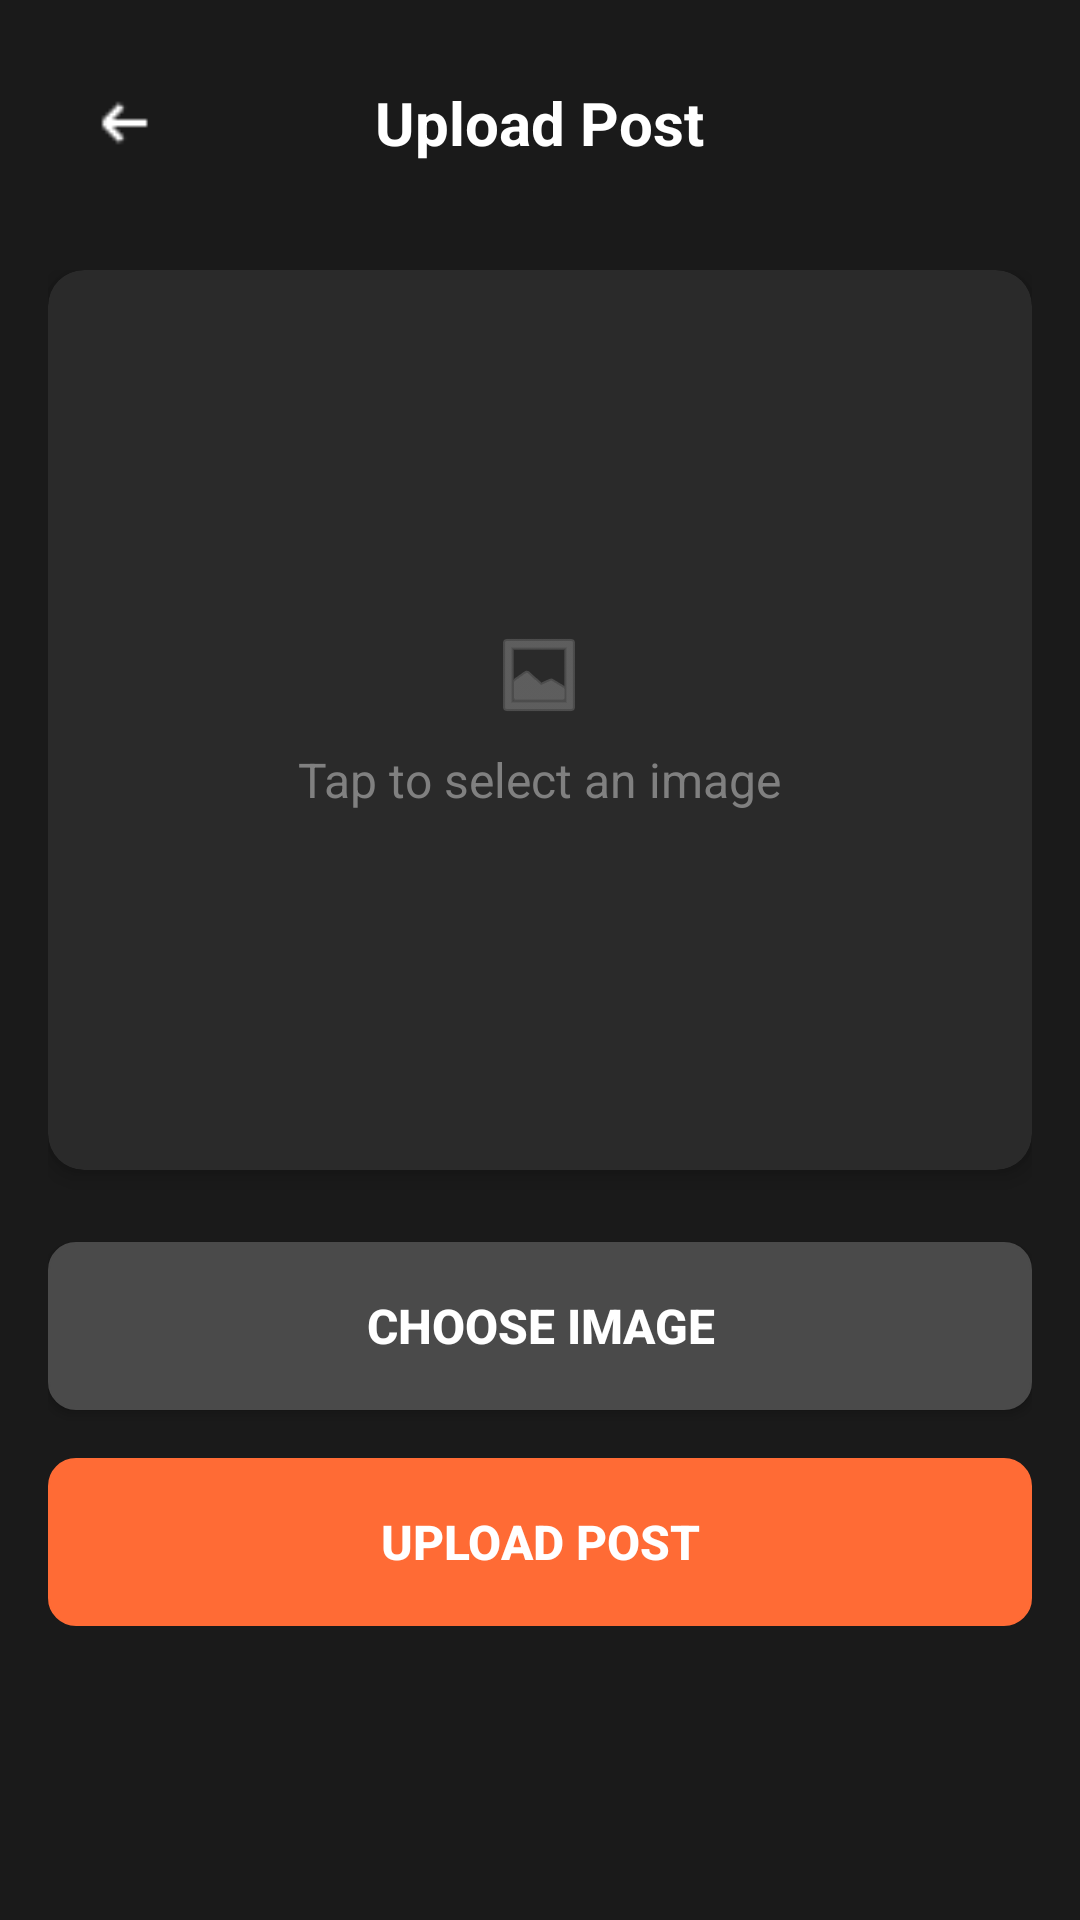

Point at icon controls on the screen. Image size 1080px×1920px, points as (x,y).
Back: (124,123)
